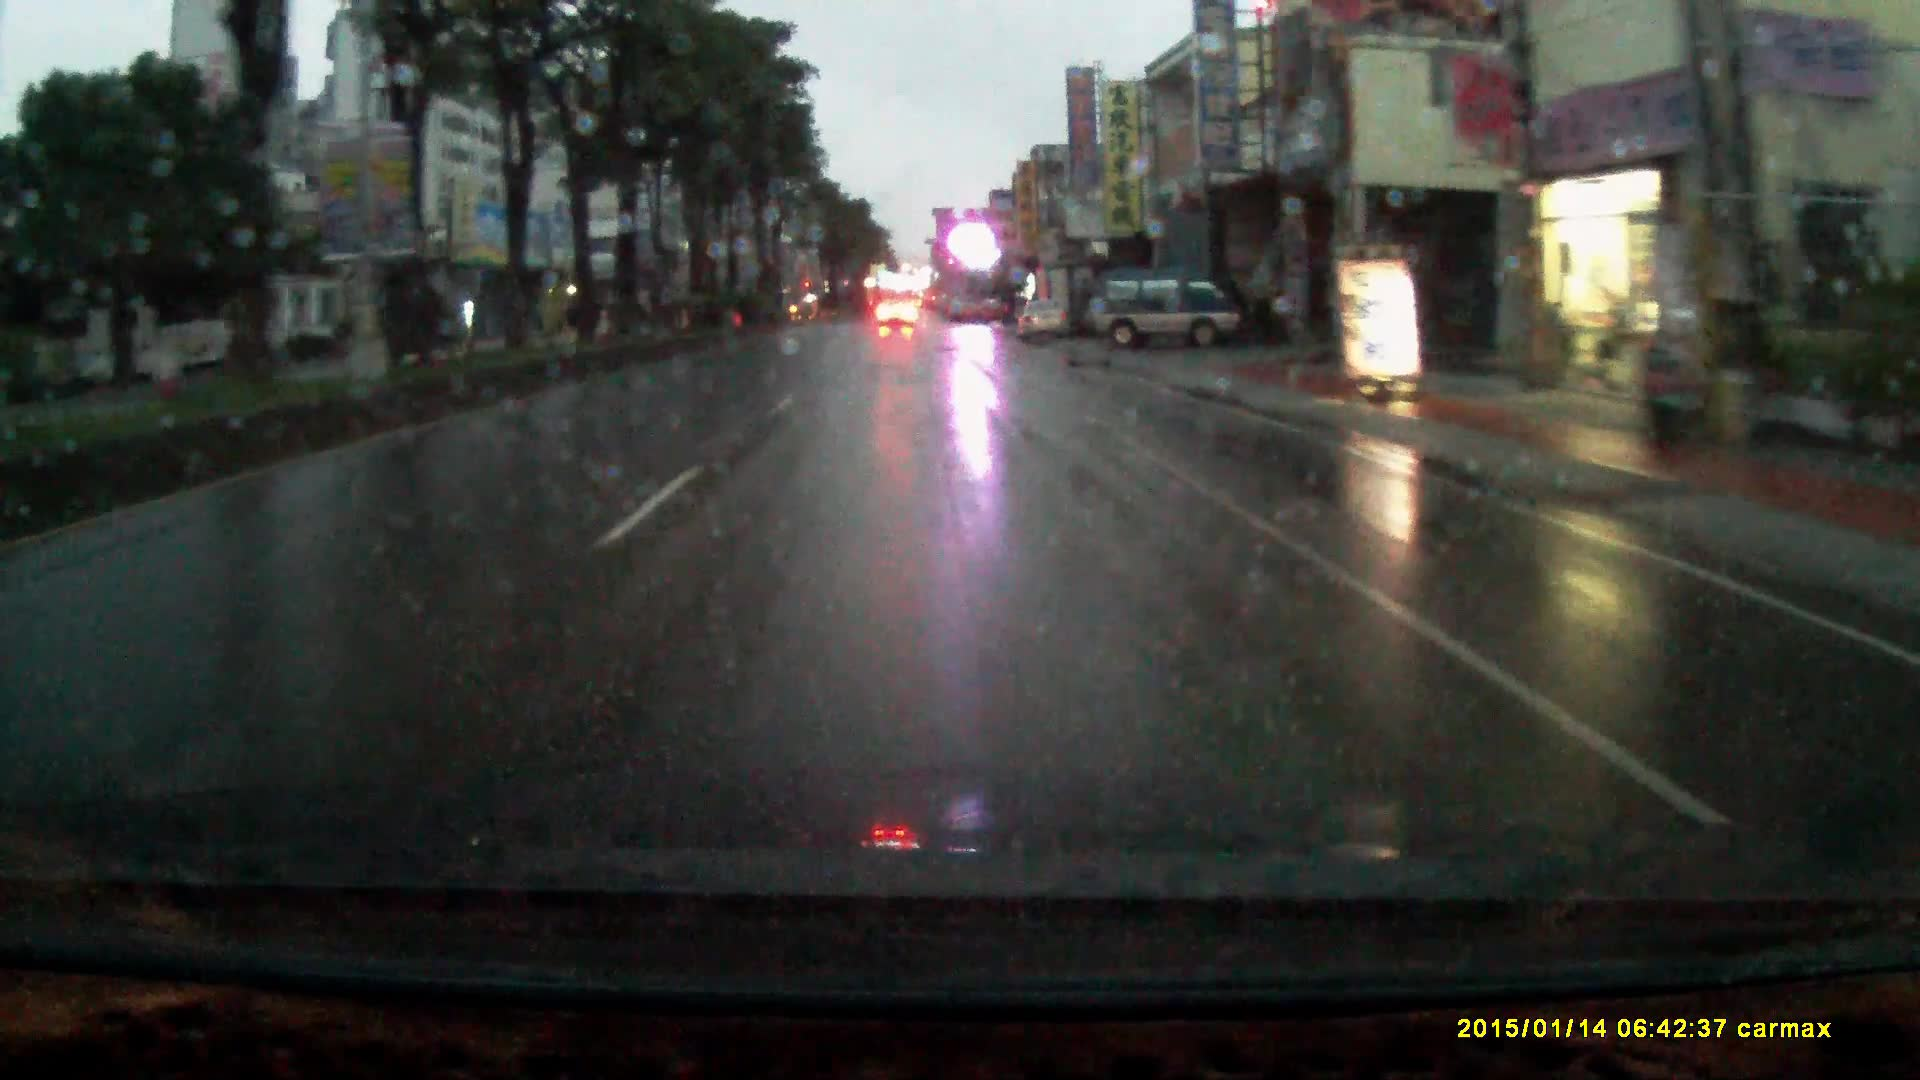vehicle: (1083, 276, 1249, 347), (1030, 247, 1100, 331), (1017, 295, 1072, 339), (877, 294, 919, 322)
